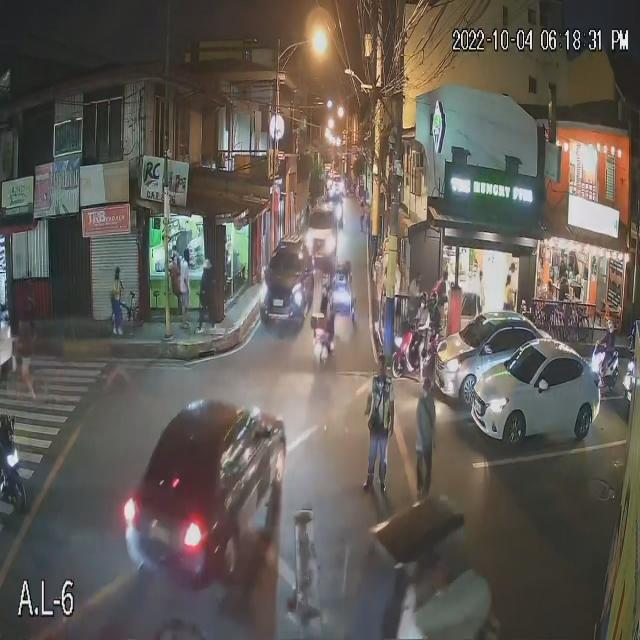helmet: (605, 319, 616, 334), (429, 290, 440, 299), (418, 292, 426, 301)
motorcycle: (0, 416, 40, 513), (394, 329, 438, 376), (308, 312, 346, 361), (593, 340, 626, 389)
rider: (430, 308, 441, 347), (418, 310, 428, 349), (321, 297, 330, 327), (605, 335, 614, 364)
